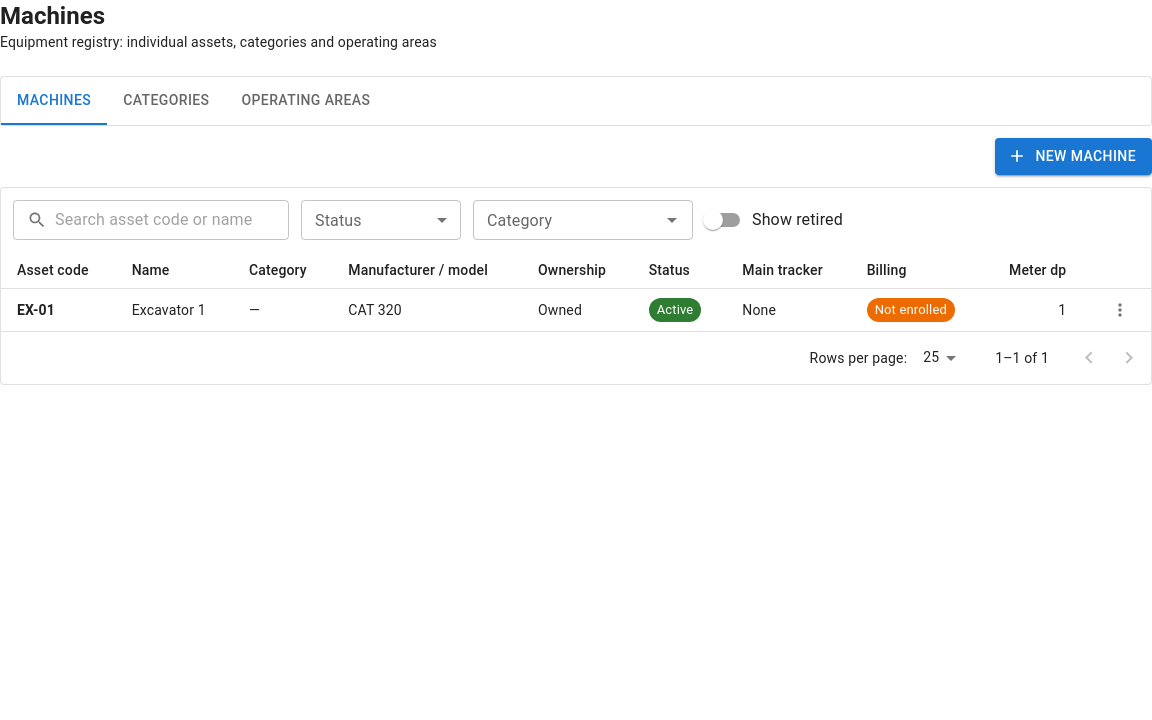
Test case: machine list row actions › takes a machine out of service with the full record and version
What coordinates should you click on to do the following:
click the button named "Actions for EX-01 · Excavator 1"
I would click on:
 (1120, 310)
Its box is [1105,294,1135,324].
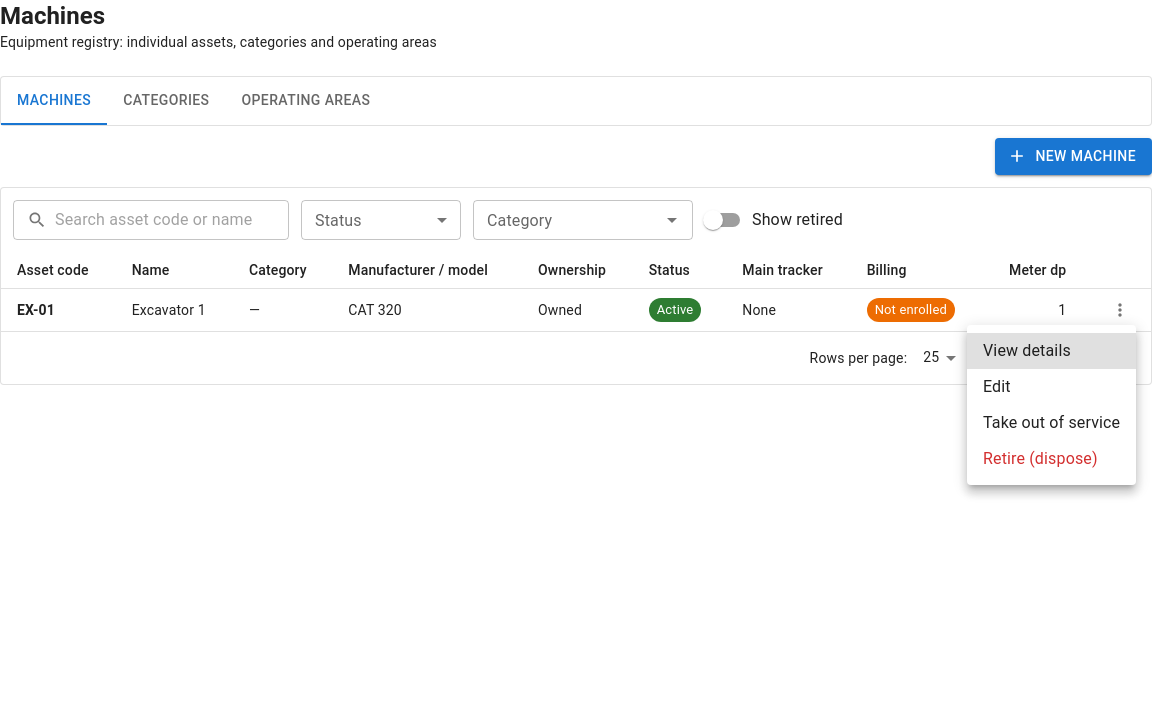
What coordinates should you click on to do the following:
click the menu item "Take out of service"
I would click on:
 (1052, 422)
Its box is [983,413,1120,432].
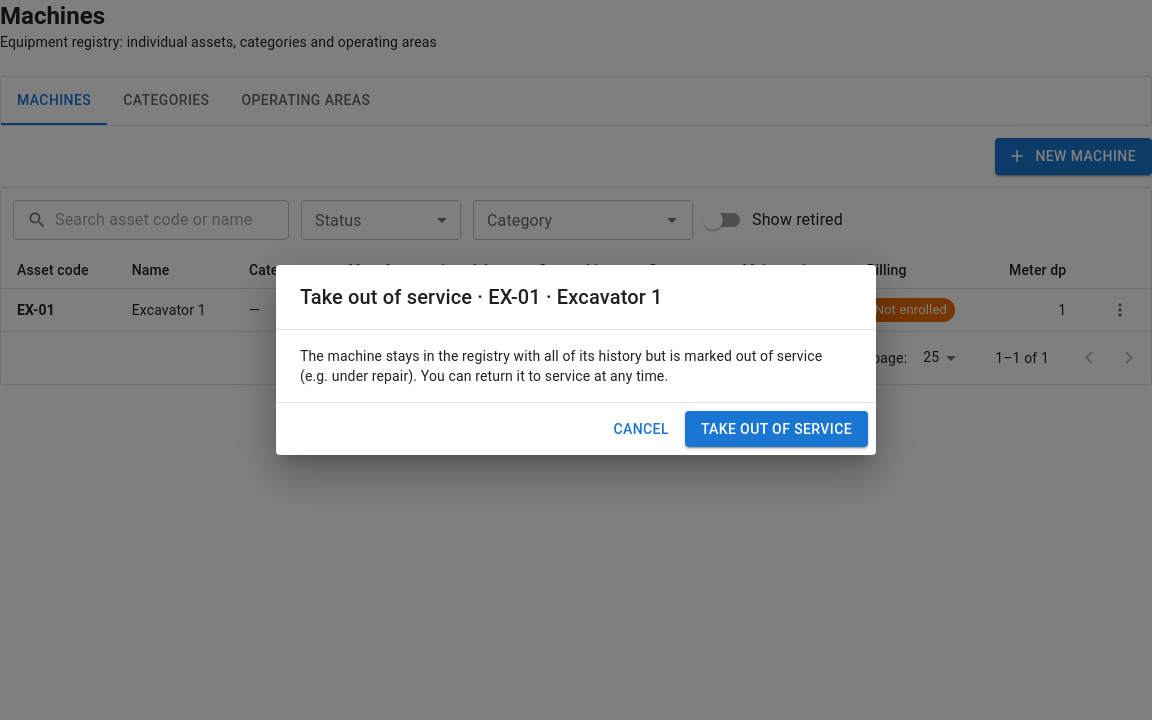
Expected: the text "stays in the registry with all of its history" is shown, [300,348,822,384]
What coordinates should you click on to do the following:
click the button "Take out of service"
I would click on:
 (776, 429)
Its box is [685,411,868,447].
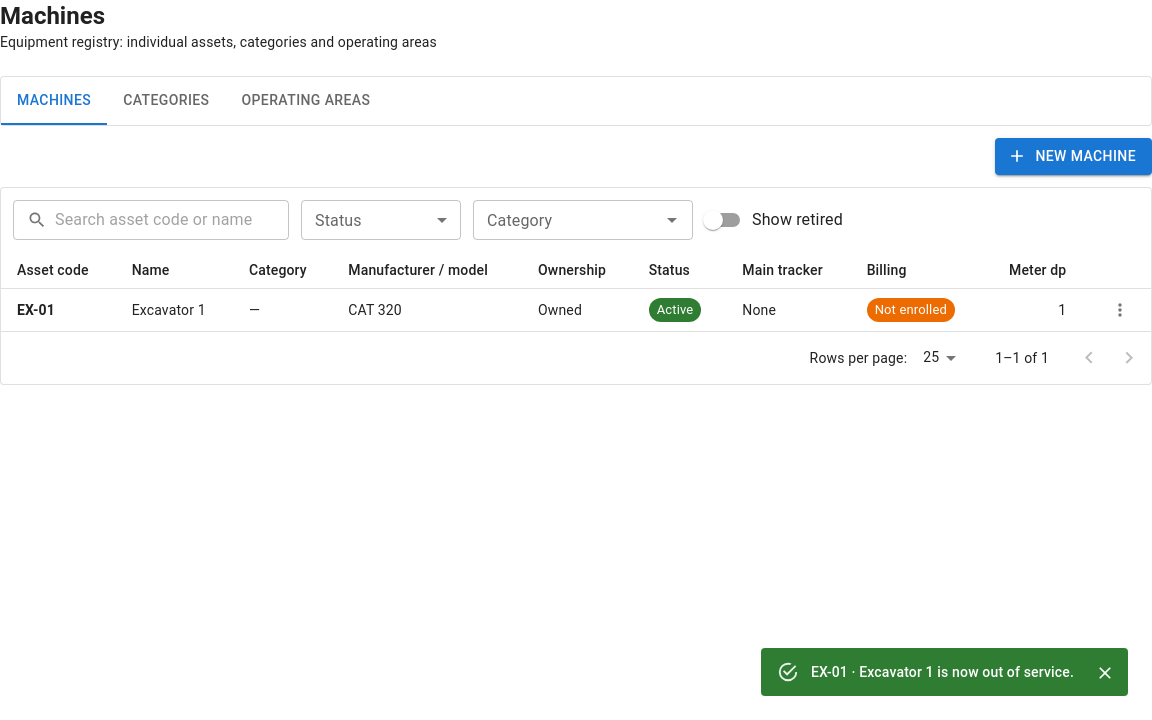
Expected: the text "EX-01 · Excavator 1 is now out of service." is shown, [811,664,1074,680]
